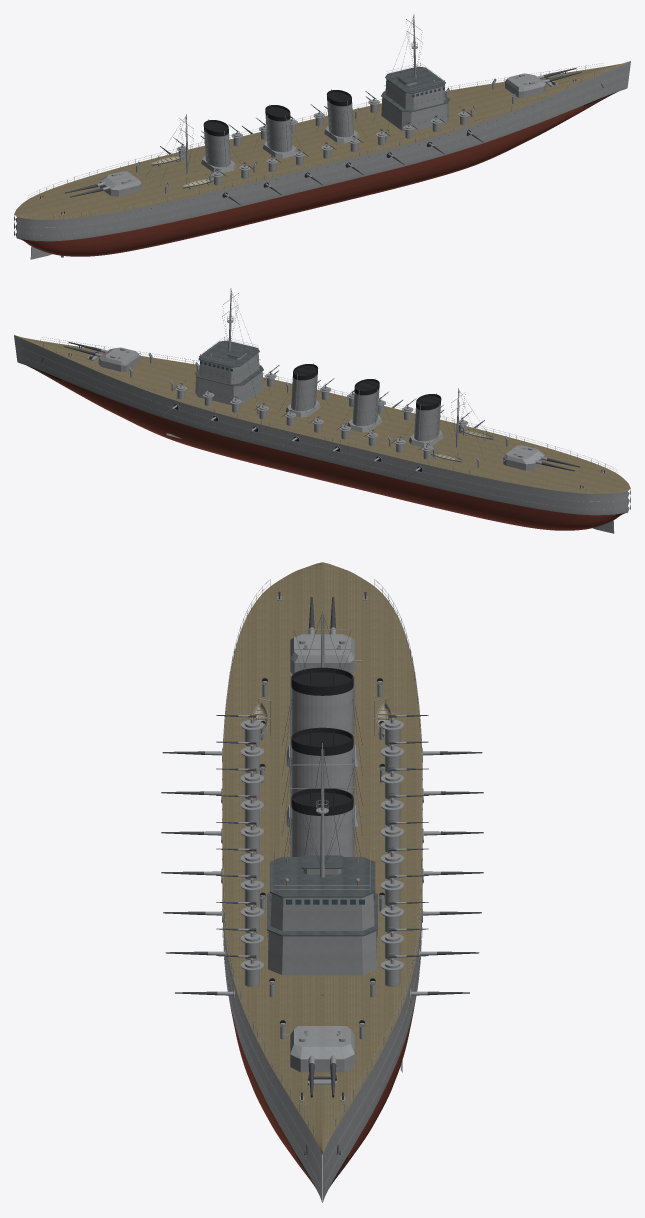
File: deutschland_bb.glb
The picture shows the model from 3 angles, top to bottom: view 1: azimuth 30°, elevation 25°; view 2: azimuth 150°, elevation 25°; view 3: azimuth 270°, elevation 25°; orthographic projection. The views are drawn at different scales.
Visible parts, largest first — view 1: Deutschland class; view 2: Deutschland class; view 3: Deutschland class.
Boxes of the visible parts, box(x1,y1,x2,y2) form: Deutschland class: box(14, 14, 630, 259); Deutschland class: box(14, 288, 630, 533); Deutschland class: box(161, 562, 483, 1202).
Bounding box in the file's own units: 156 × 37.31 × 35.36.
Materials: 9 (8 with a texture image).
